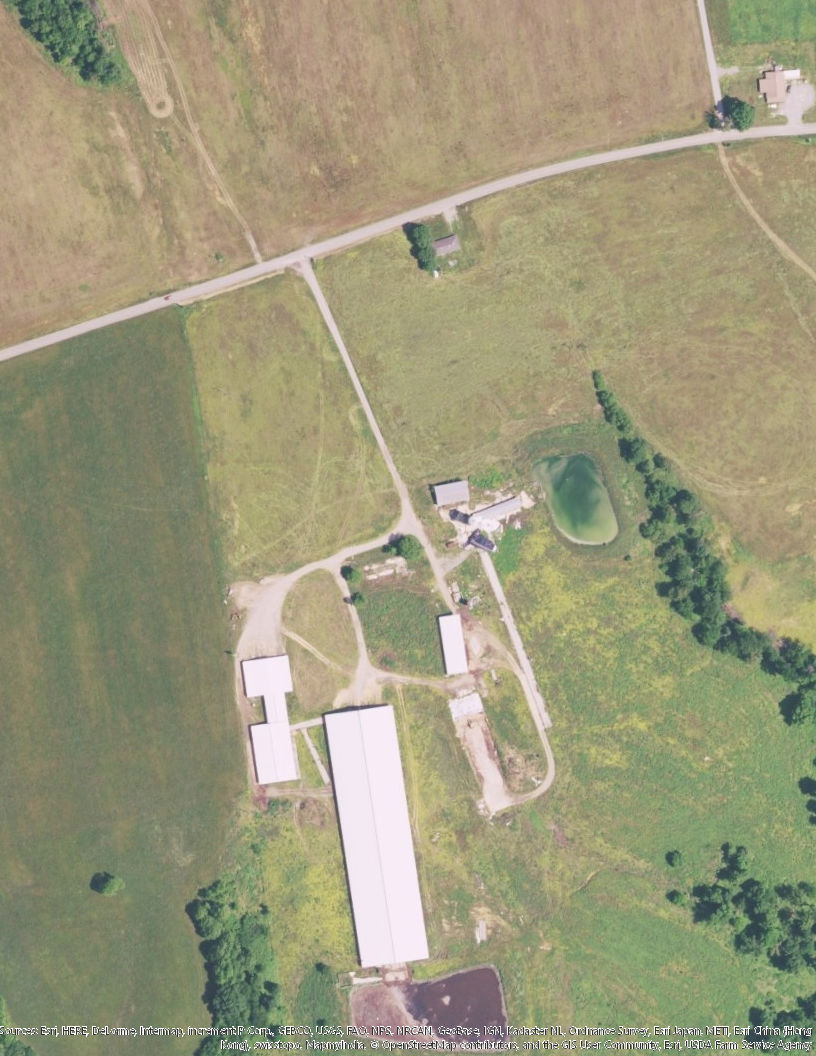cafo: (316, 696, 437, 972), (237, 649, 308, 789), (434, 605, 471, 685)
